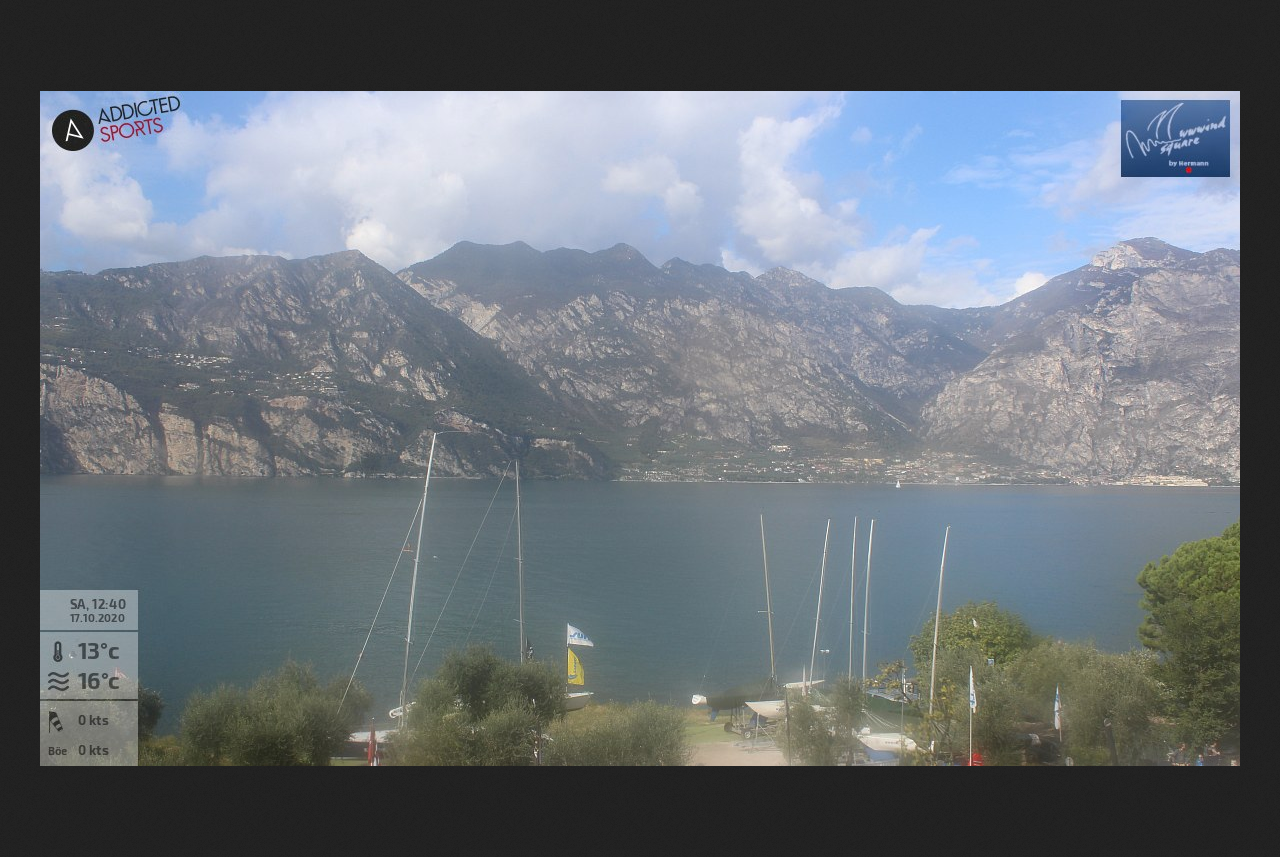no: (1050, 687, 1066, 732), (967, 664, 980, 718)
yes: (564, 647, 585, 687), (564, 622, 592, 647)
